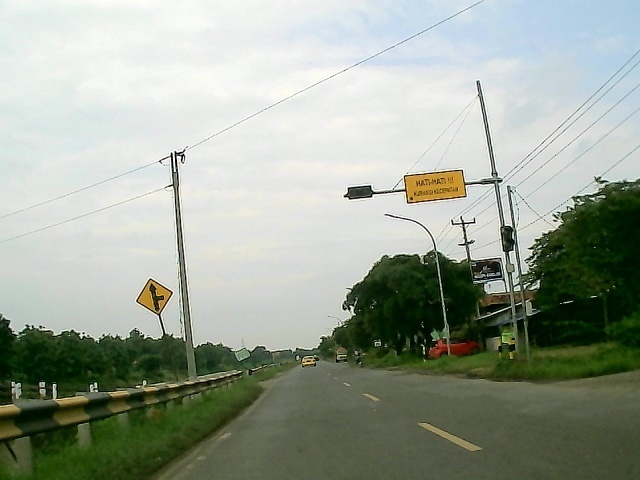Simpang kanan dengan prioritas: (132, 273, 174, 318)
